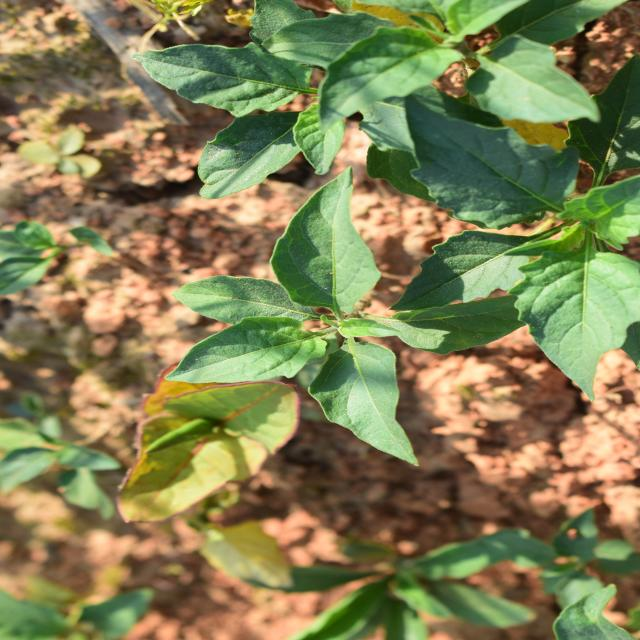Black_nightshade: (210, 154, 440, 483), (244, 388, 546, 632), (438, 138, 629, 366), (520, 280, 636, 572)
